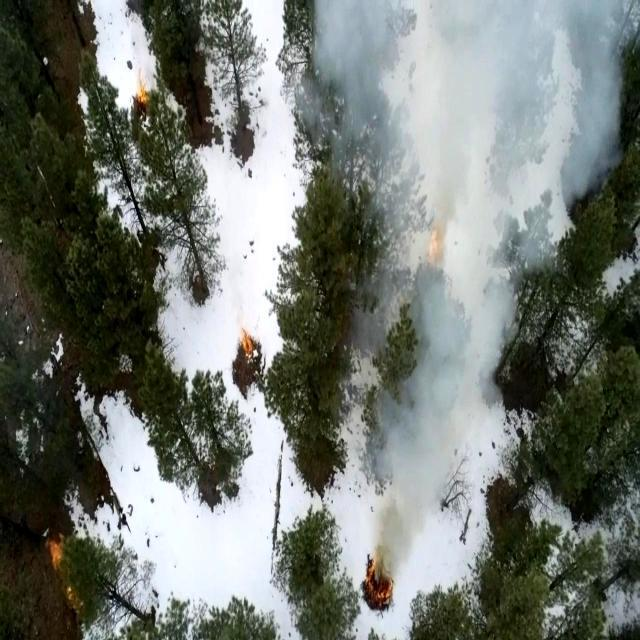Fire: (364, 554, 396, 610), (130, 71, 151, 113), (238, 320, 256, 368)
Smoke: (304, 6, 622, 356), (365, 311, 502, 556)
